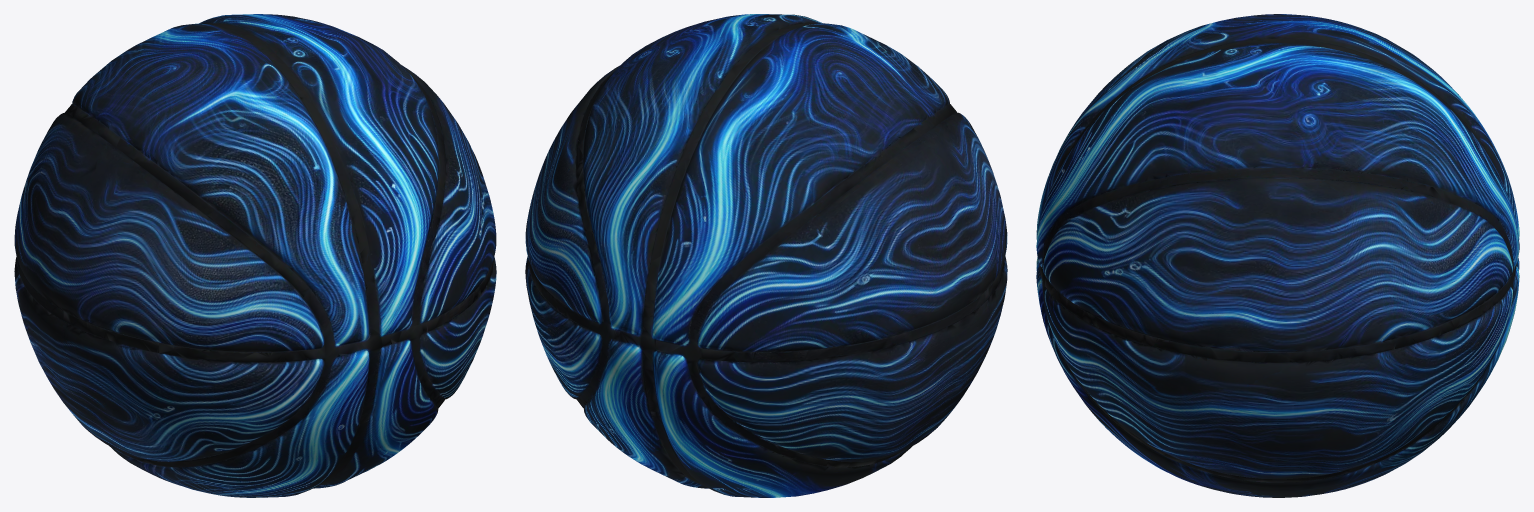
The model's file is basketball-blu-mobile.glb.
3 renders of one model, left to right at view 1: azimuth 30°, elevation 25°; view 2: azimuth 150°, elevation 25°; view 3: azimuth 270°, elevation 25°, orthographic.
Visible parts, largest first — view 1: node_0; view 2: node_0; view 3: node_0.
Boxes of the visible parts, x1,y1,x2,y2 form: node_0: (14,14,496,497); node_0: (525,14,1007,497); node_0: (1036,14,1519,497).
Bounding box in the file's own units: 1.19 × 1.19 × 1.19.
1 material, 1 textured.
